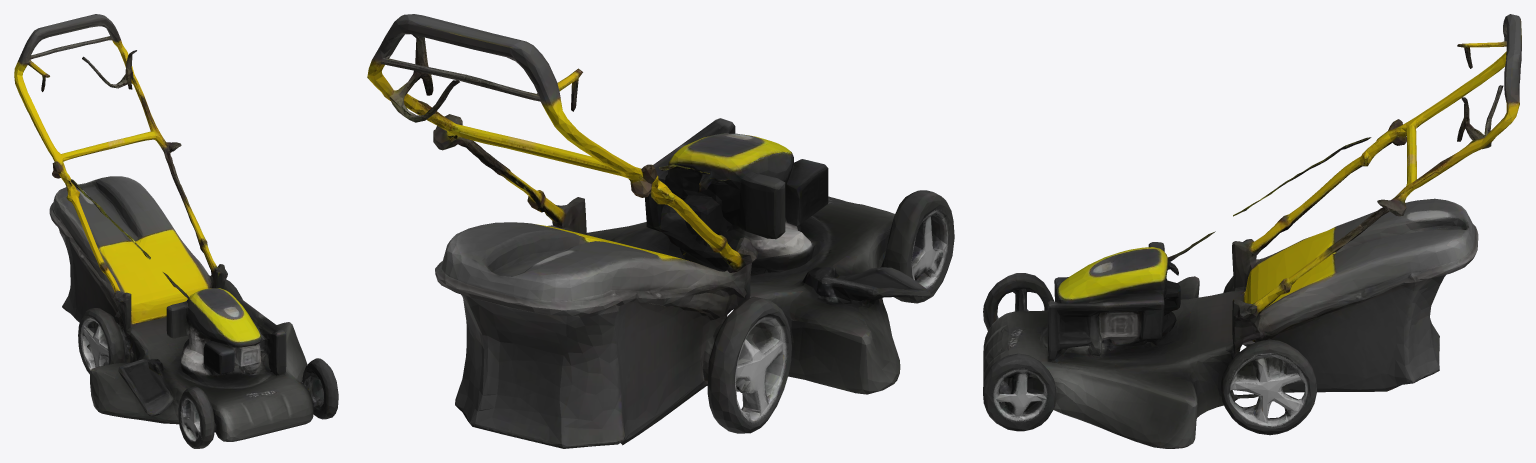
3 views of the same model, side by side, from view 1: azimuth 30°, elevation 25°; view 2: azimuth 150°, elevation 25°; view 3: azimuth 270°, elevation 25° (orthographic). The views are drawn at different scales.
Visible parts, largest first — view 1: geometry_0; view 2: geometry_0; view 3: geometry_0.
Part boxes in pixels (x1,y1,x2,y2): geometry_0: [14, 14, 338, 448]; geometry_0: [367, 14, 954, 448]; geometry_0: [983, 14, 1521, 448].
Size of the model in its own units: 0.5749 by 0.7347 by 0.9991.
Materials: 1 (1 with a texture image).
